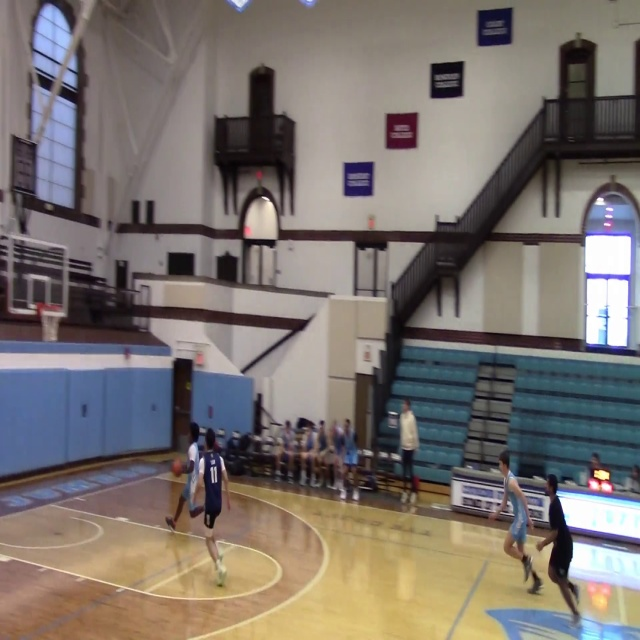Basketball: (171, 459, 183, 476)
